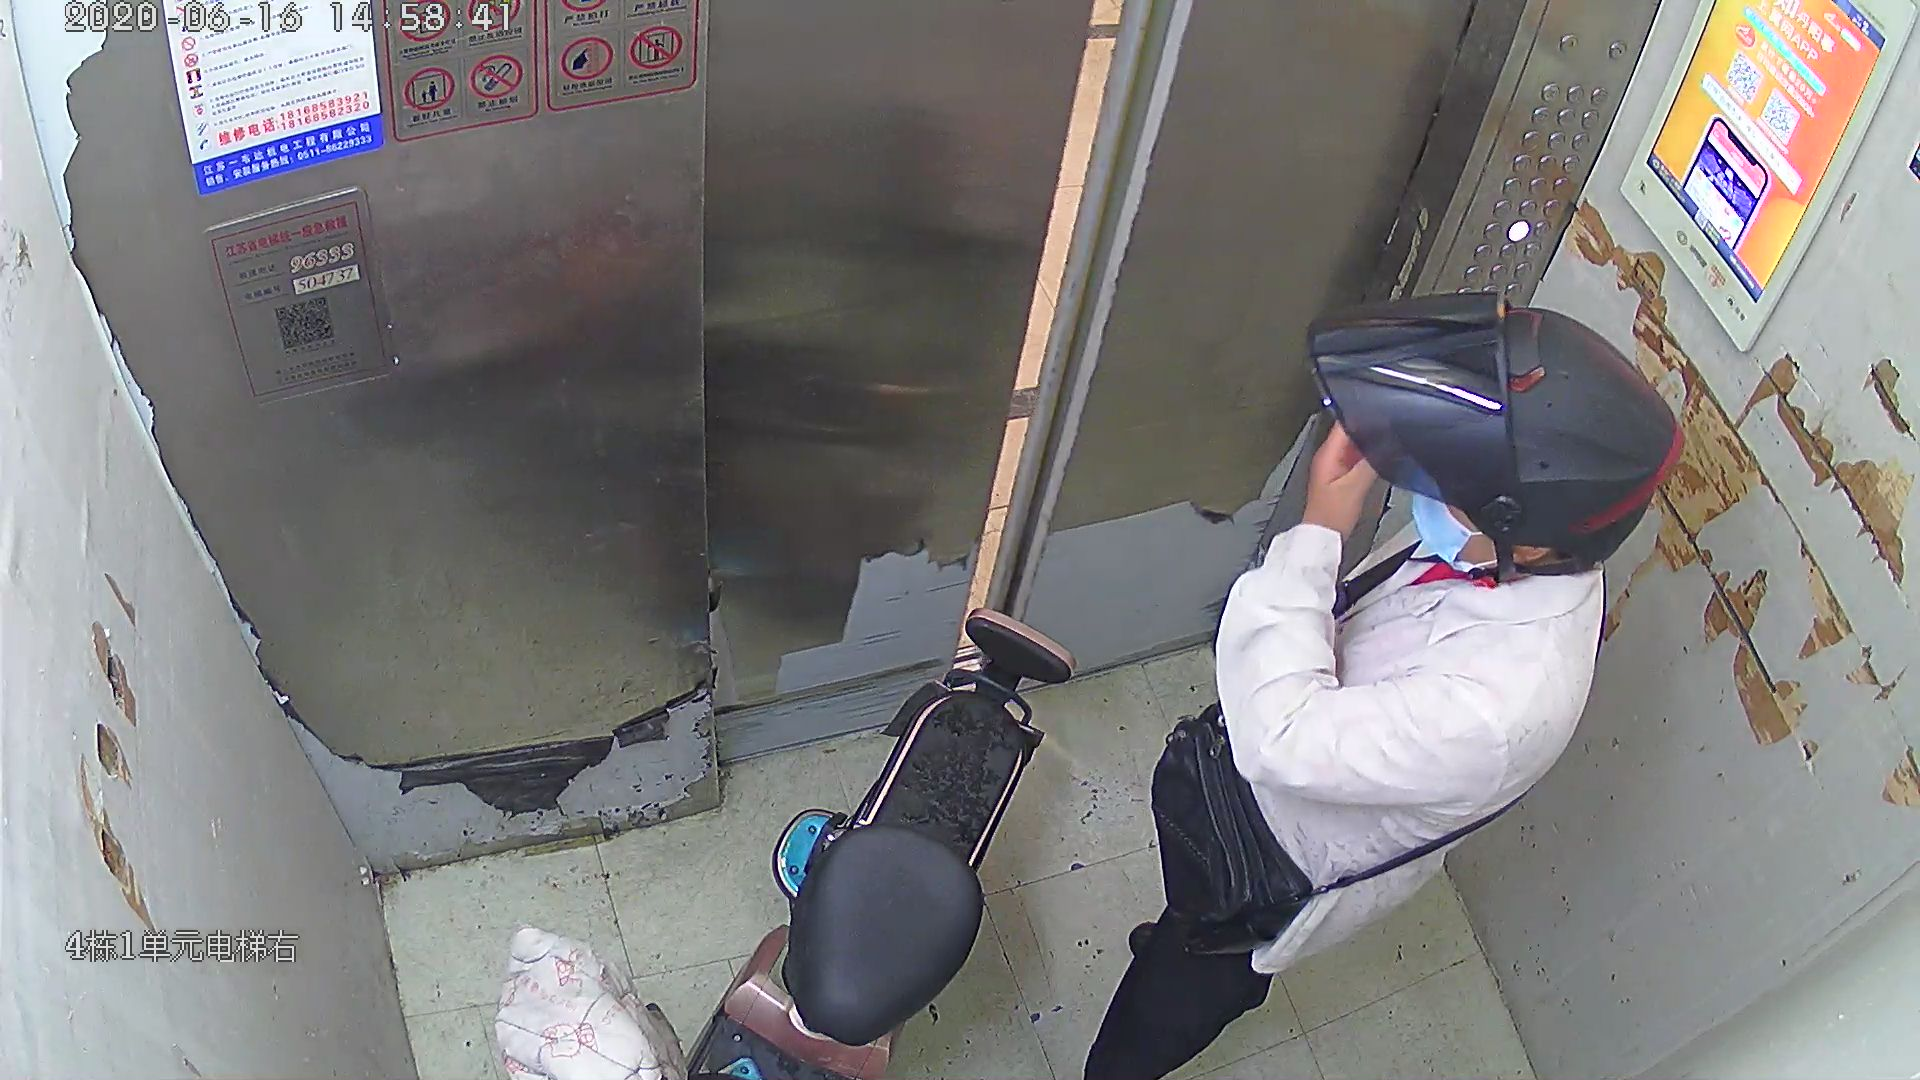Electric-bicycle: (521, 607, 1077, 1080)
